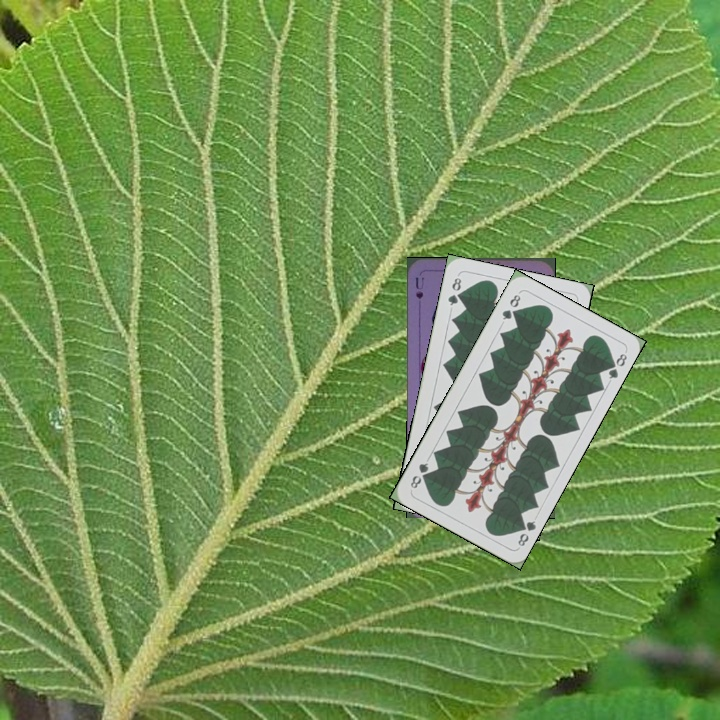G8: (513, 516, 539, 549), (498, 290, 523, 323), (444, 273, 464, 308)
SU: (412, 273, 426, 301)
